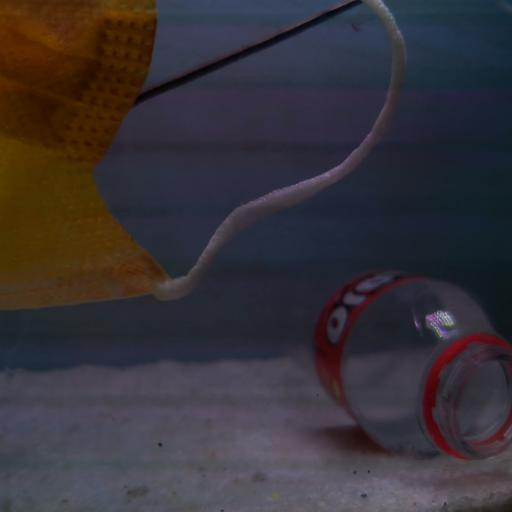mask: (3, 2, 410, 307)
plastic_bottle: (273, 250, 512, 466)
